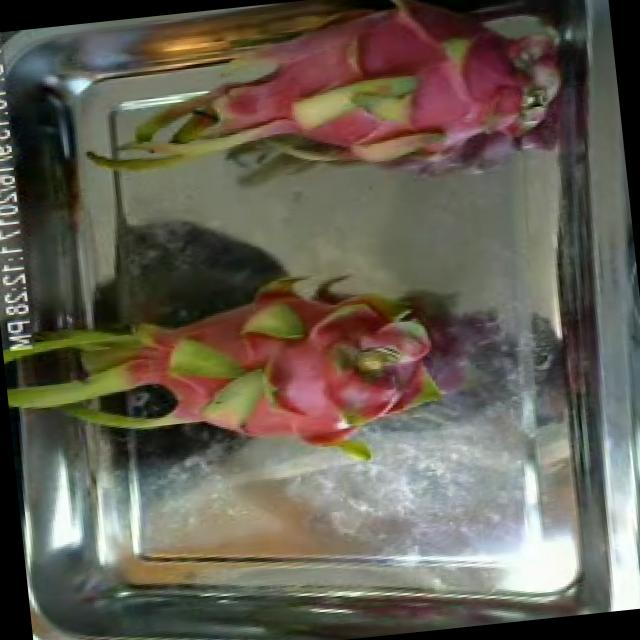Fruit: (99, 374, 191, 431)
